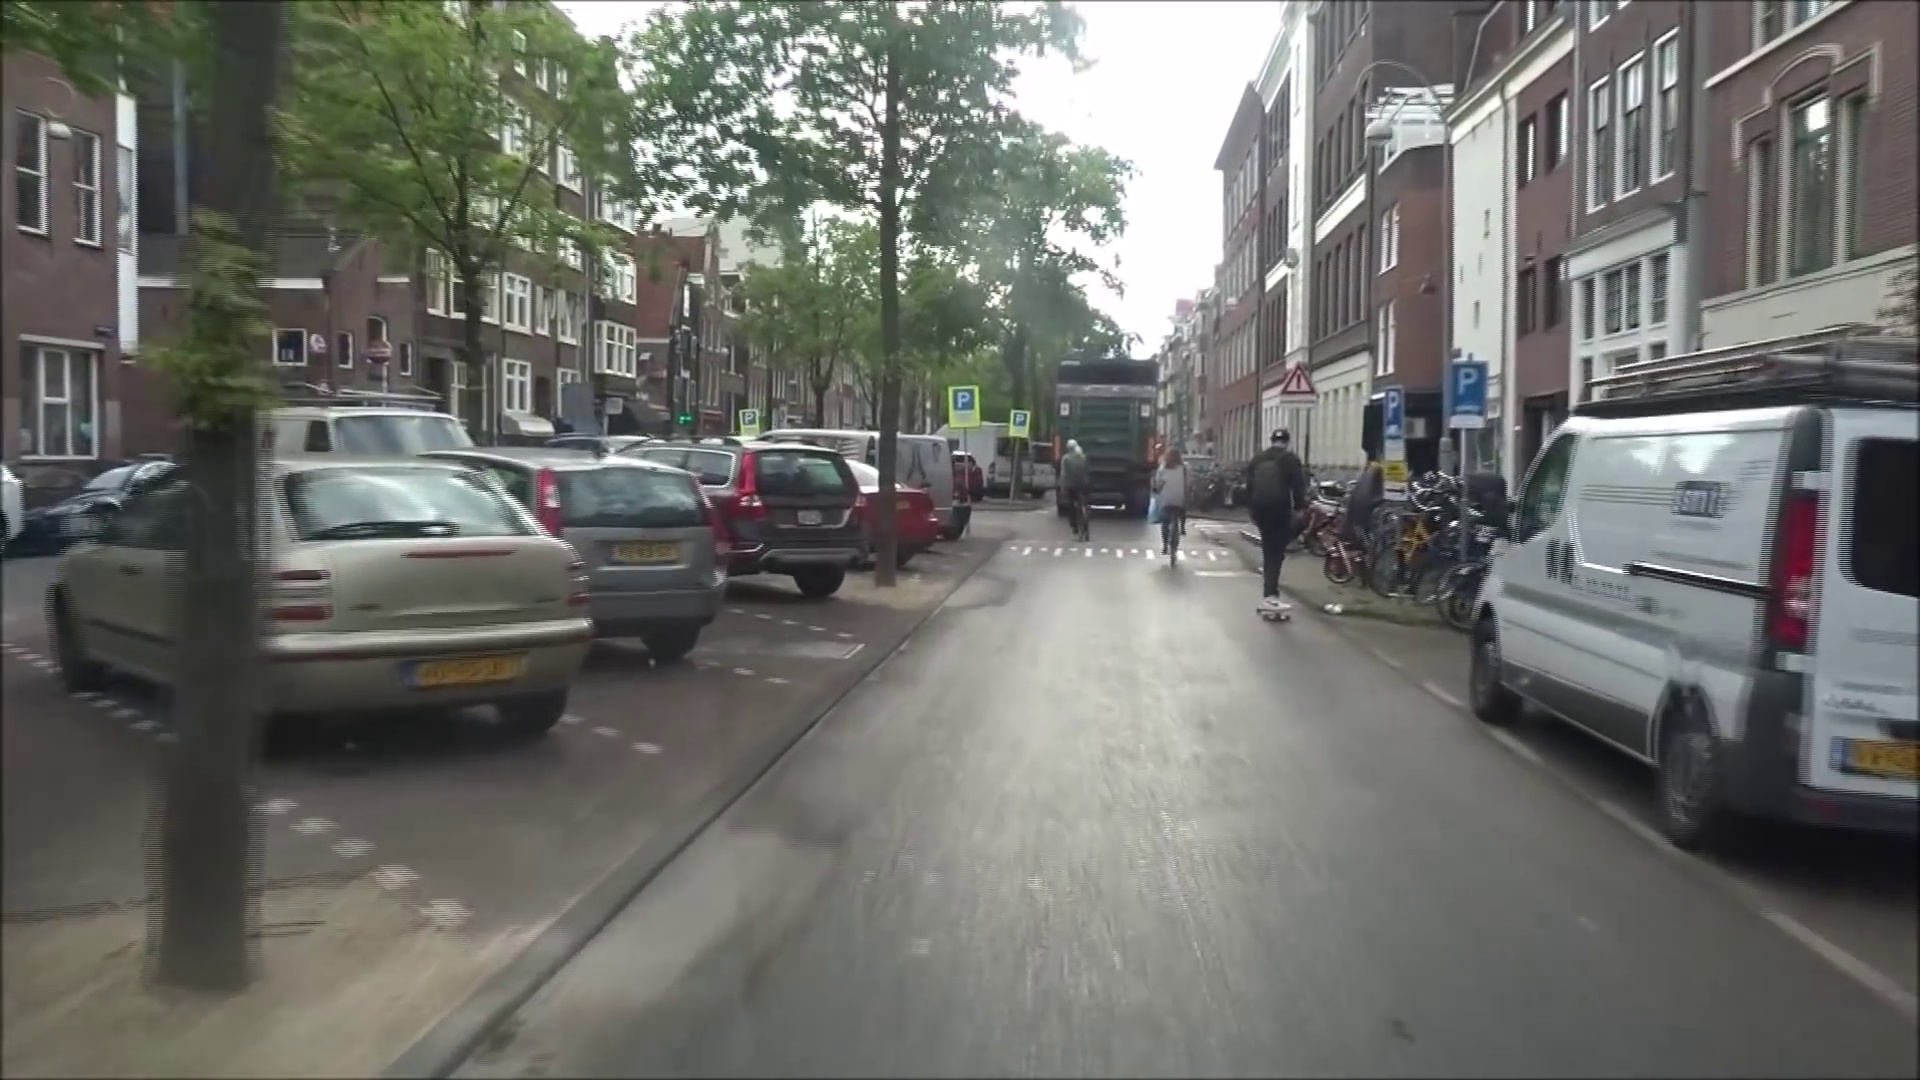cyclist_back: (1145, 436, 1198, 567), (1054, 444, 1096, 545)
